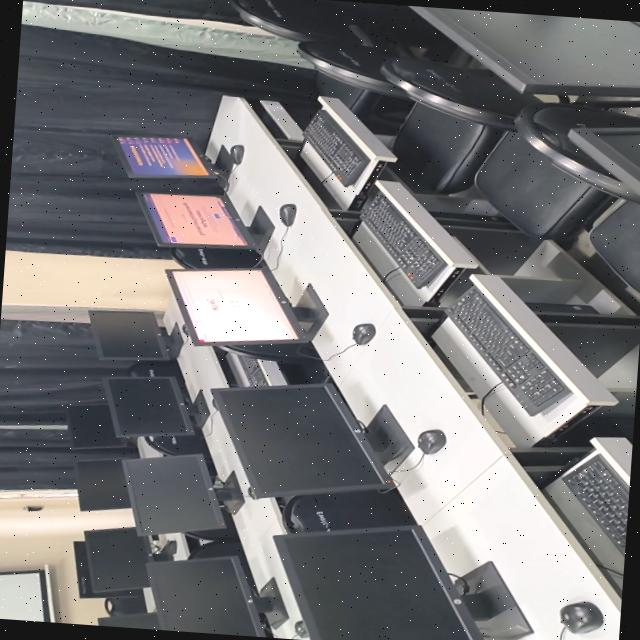Chair: (379, 56, 614, 242), (515, 104, 640, 294), (297, 25, 413, 127), (391, 100, 502, 194), (230, 0, 372, 44), (281, 488, 414, 532), (170, 247, 259, 270), (221, 343, 319, 363), (143, 431, 208, 455), (103, 594, 145, 616)
Cpu: (548, 414, 634, 445), (524, 302, 597, 313)
Keyboard: (445, 286, 571, 415), (358, 192, 445, 288), (559, 453, 629, 559), (303, 109, 368, 186), (230, 354, 287, 386)
Monitor: (273, 524, 531, 640), (210, 382, 413, 498), (406, 5, 640, 97), (147, 541, 287, 637), (122, 454, 243, 539), (171, 269, 297, 342), (136, 192, 256, 250), (102, 376, 207, 436), (86, 309, 182, 360), (83, 527, 148, 591), (113, 136, 211, 178), (72, 541, 140, 597), (74, 459, 129, 510), (66, 404, 123, 448), (598, 132, 640, 169), (97, 612, 159, 630)
Mouse: (559, 601, 602, 633), (416, 429, 445, 454), (351, 323, 374, 345), (278, 203, 295, 226), (228, 144, 243, 164), (293, 620, 307, 637), (181, 326, 187, 334)
